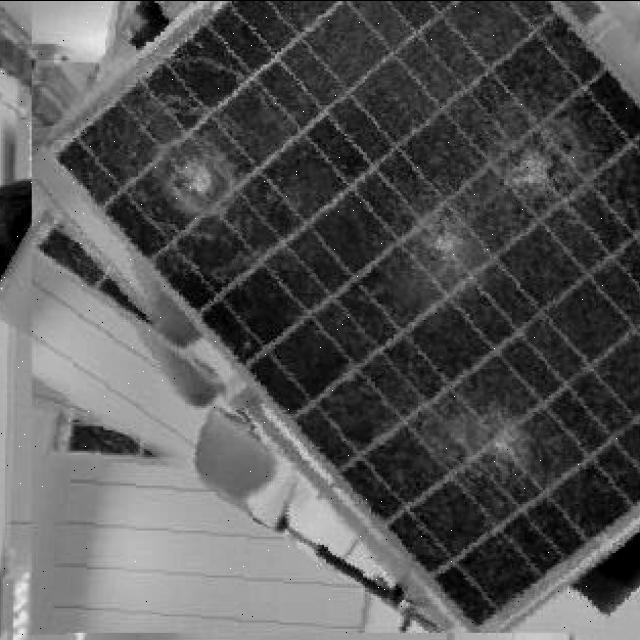Anomaly Solar Panel: (40, 0, 640, 632)
Structural Damage: (141, 92, 257, 266), (446, 381, 558, 492), (396, 197, 496, 283), (502, 128, 569, 227)
